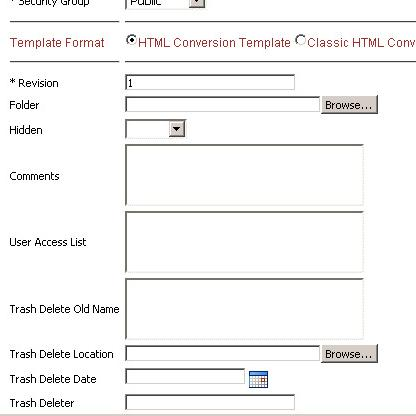button: (320, 344, 380, 366), (321, 94, 380, 115)
field: (123, 277, 367, 341), (123, 142, 366, 206), (124, 211, 363, 274), (123, 93, 321, 113), (123, 344, 320, 363), (121, 393, 298, 411), (122, 73, 296, 91), (122, 367, 246, 386), (124, 118, 186, 140)
radio: (122, 33, 142, 47), (293, 32, 308, 47)
radio_with_label: (11, 141, 367, 208), (8, 209, 364, 276), (9, 277, 367, 343), (8, 92, 320, 115), (4, 71, 298, 93), (10, 391, 300, 413), (8, 342, 321, 362), (10, 365, 247, 389), (8, 117, 186, 141), (119, 31, 291, 50)
